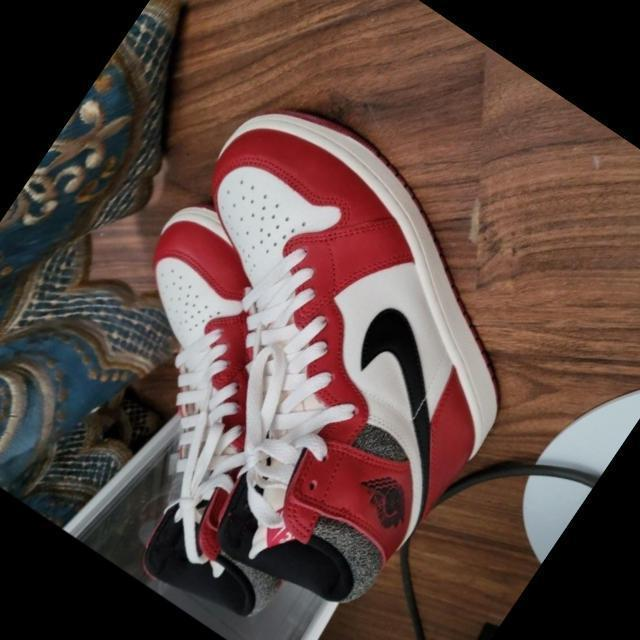nike original jordan 1: (31, 72, 589, 640), (0, 188, 435, 640)
